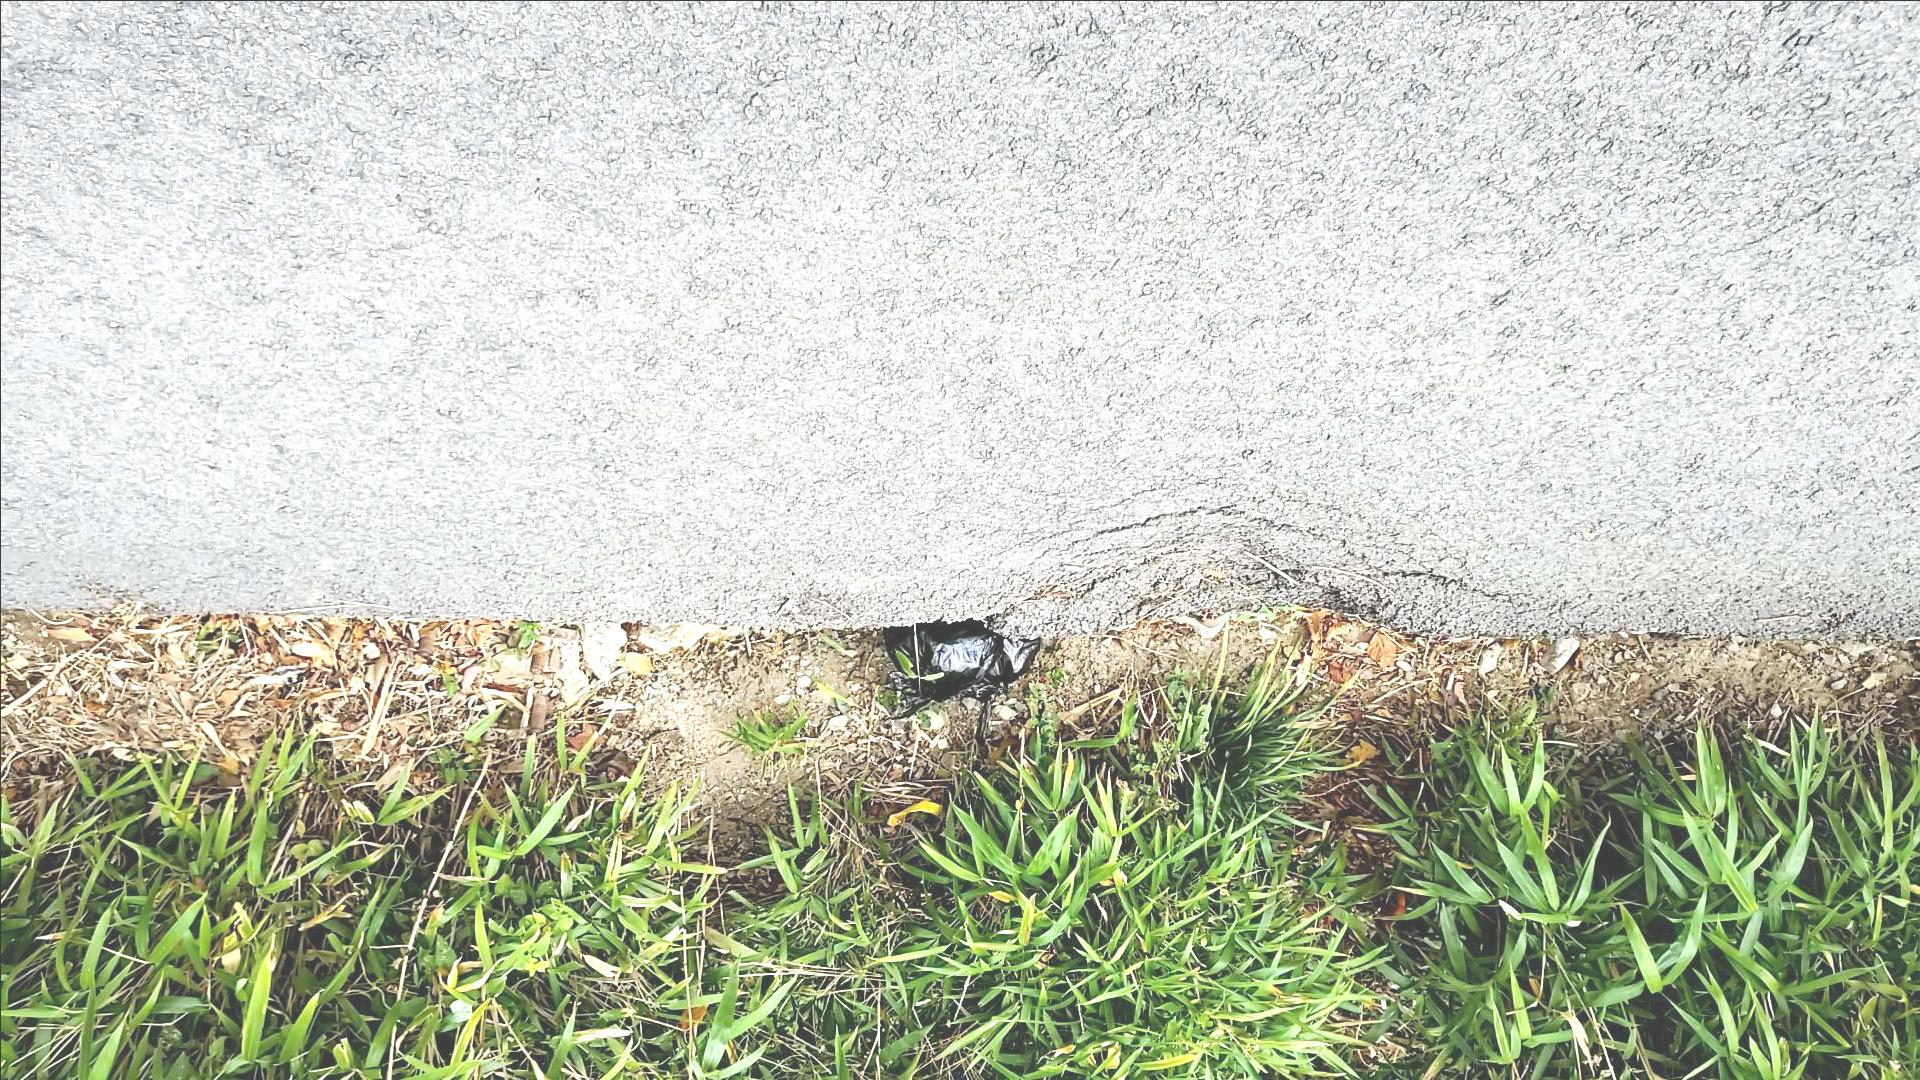black_bag: (878, 615, 1029, 716)
